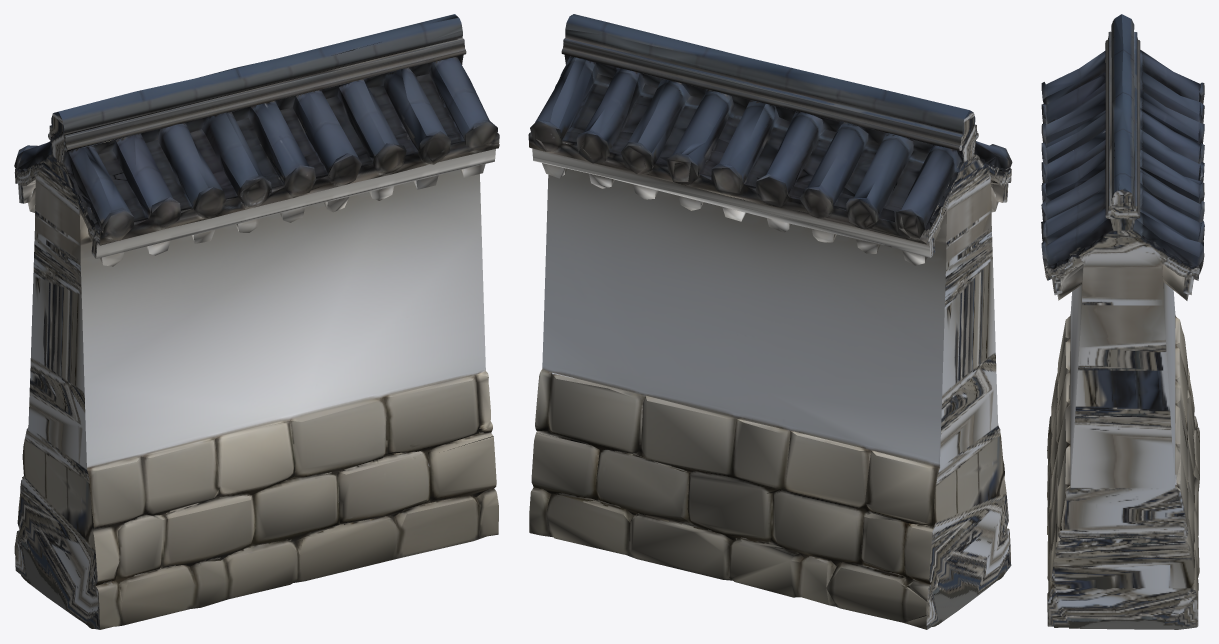
File: wall_segment_4m_lod1.glb
3 views of the same model, side by side, from view 1: azimuth 30°, elevation 25°; view 2: azimuth 150°, elevation 25°; view 3: azimuth 270°, elevation 25° (orthographic). The views are drawn at different scales.
Visible parts, largest first — view 1: wall_segment_4m_lod1; view 2: wall_segment_4m_lod1; view 3: wall_segment_4m_lod1.
Part boxes in pixels (x1,y1,x2,y2): wall_segment_4m_lod1: (14, 14, 499, 629); wall_segment_4m_lod1: (528, 14, 1012, 629); wall_segment_4m_lod1: (1041, 14, 1204, 629).
Bounding box in the file's own units: 4 × 4.74 × 1.59.
Materials: 1 (1 with a texture image).
